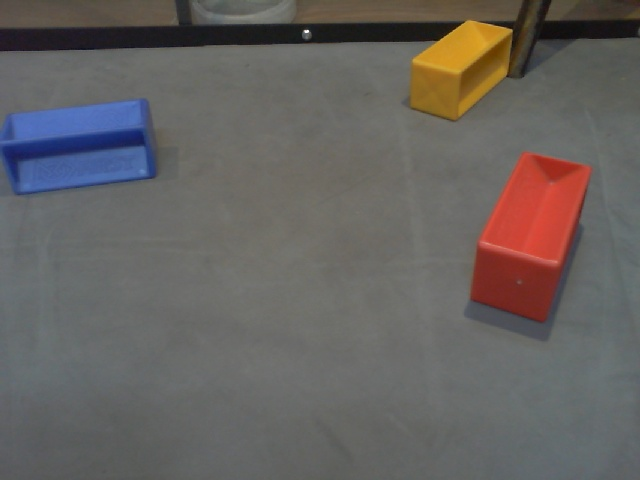BlueSample: (1, 97, 160, 197)
RedSample: (466, 146, 592, 326)
YellowSample: (401, 18, 513, 123)
